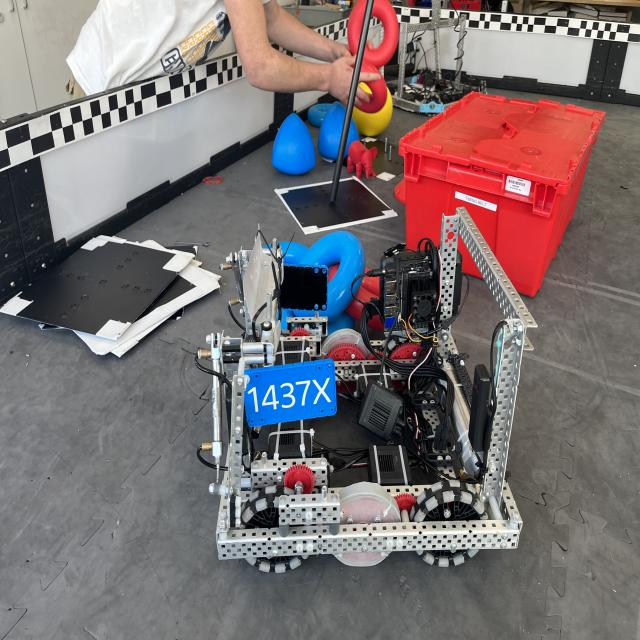Blue-Ring: (300, 232, 365, 322)
Red-Ring: (364, 0, 399, 67), (358, 77, 388, 113), (348, 0, 366, 55), (361, 60, 379, 73)
